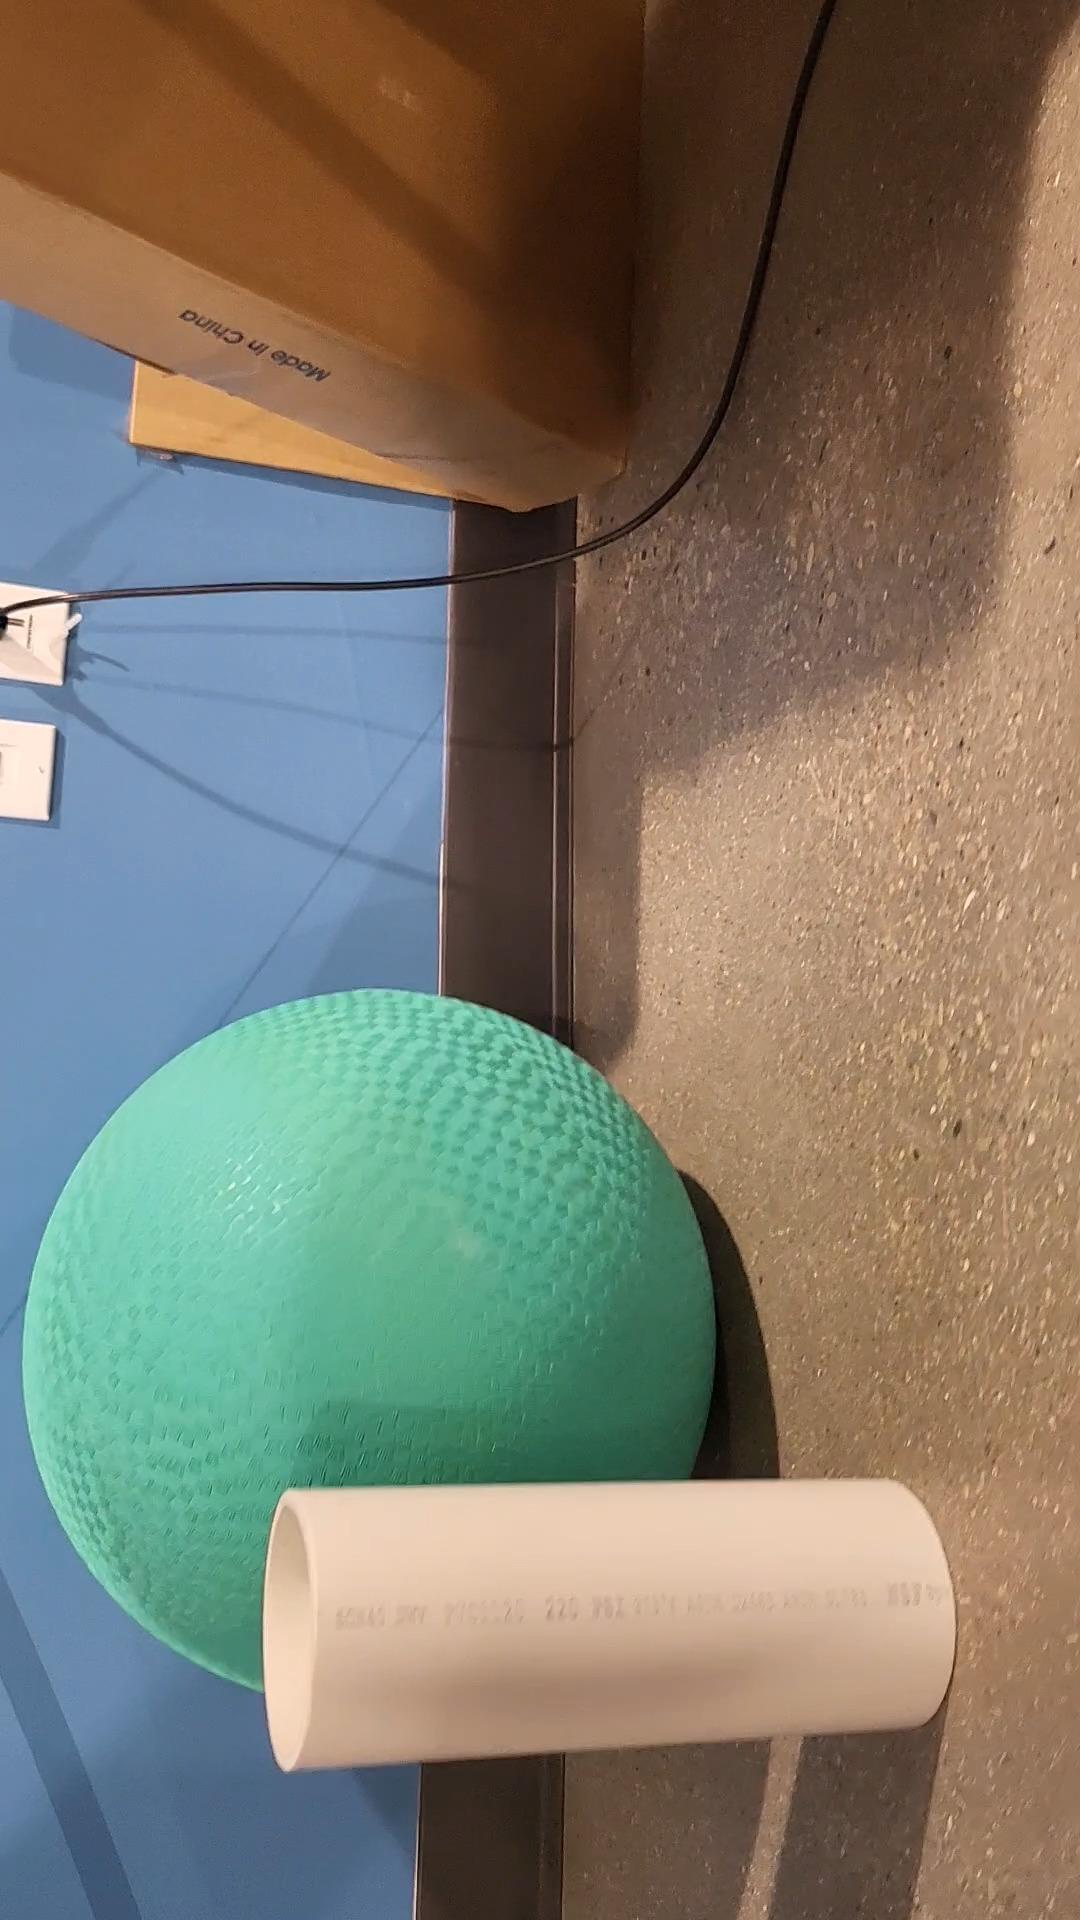algae: (28, 993, 715, 1692)
coral: (265, 1476, 955, 1772)
